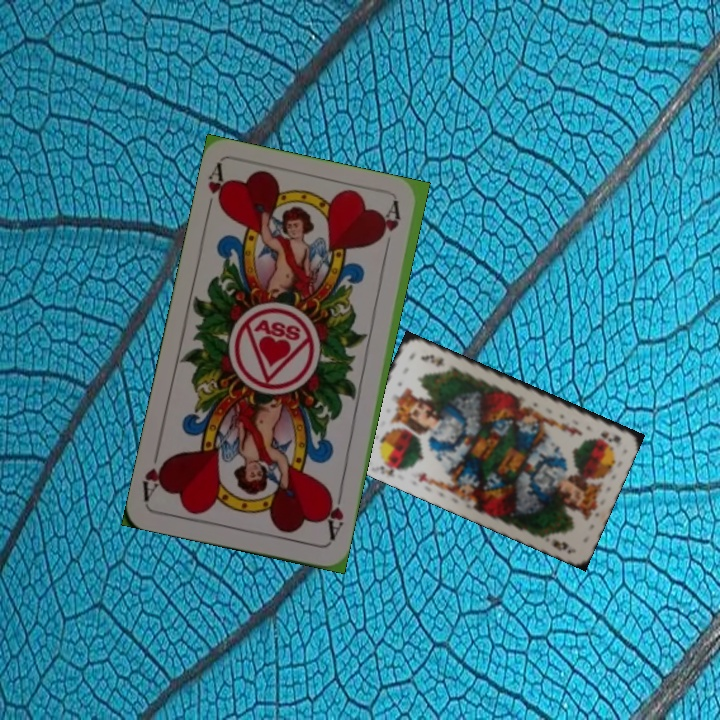HA: (201, 161, 232, 220), (320, 485, 346, 543)
SK: (596, 427, 624, 448), (370, 462, 397, 478)
